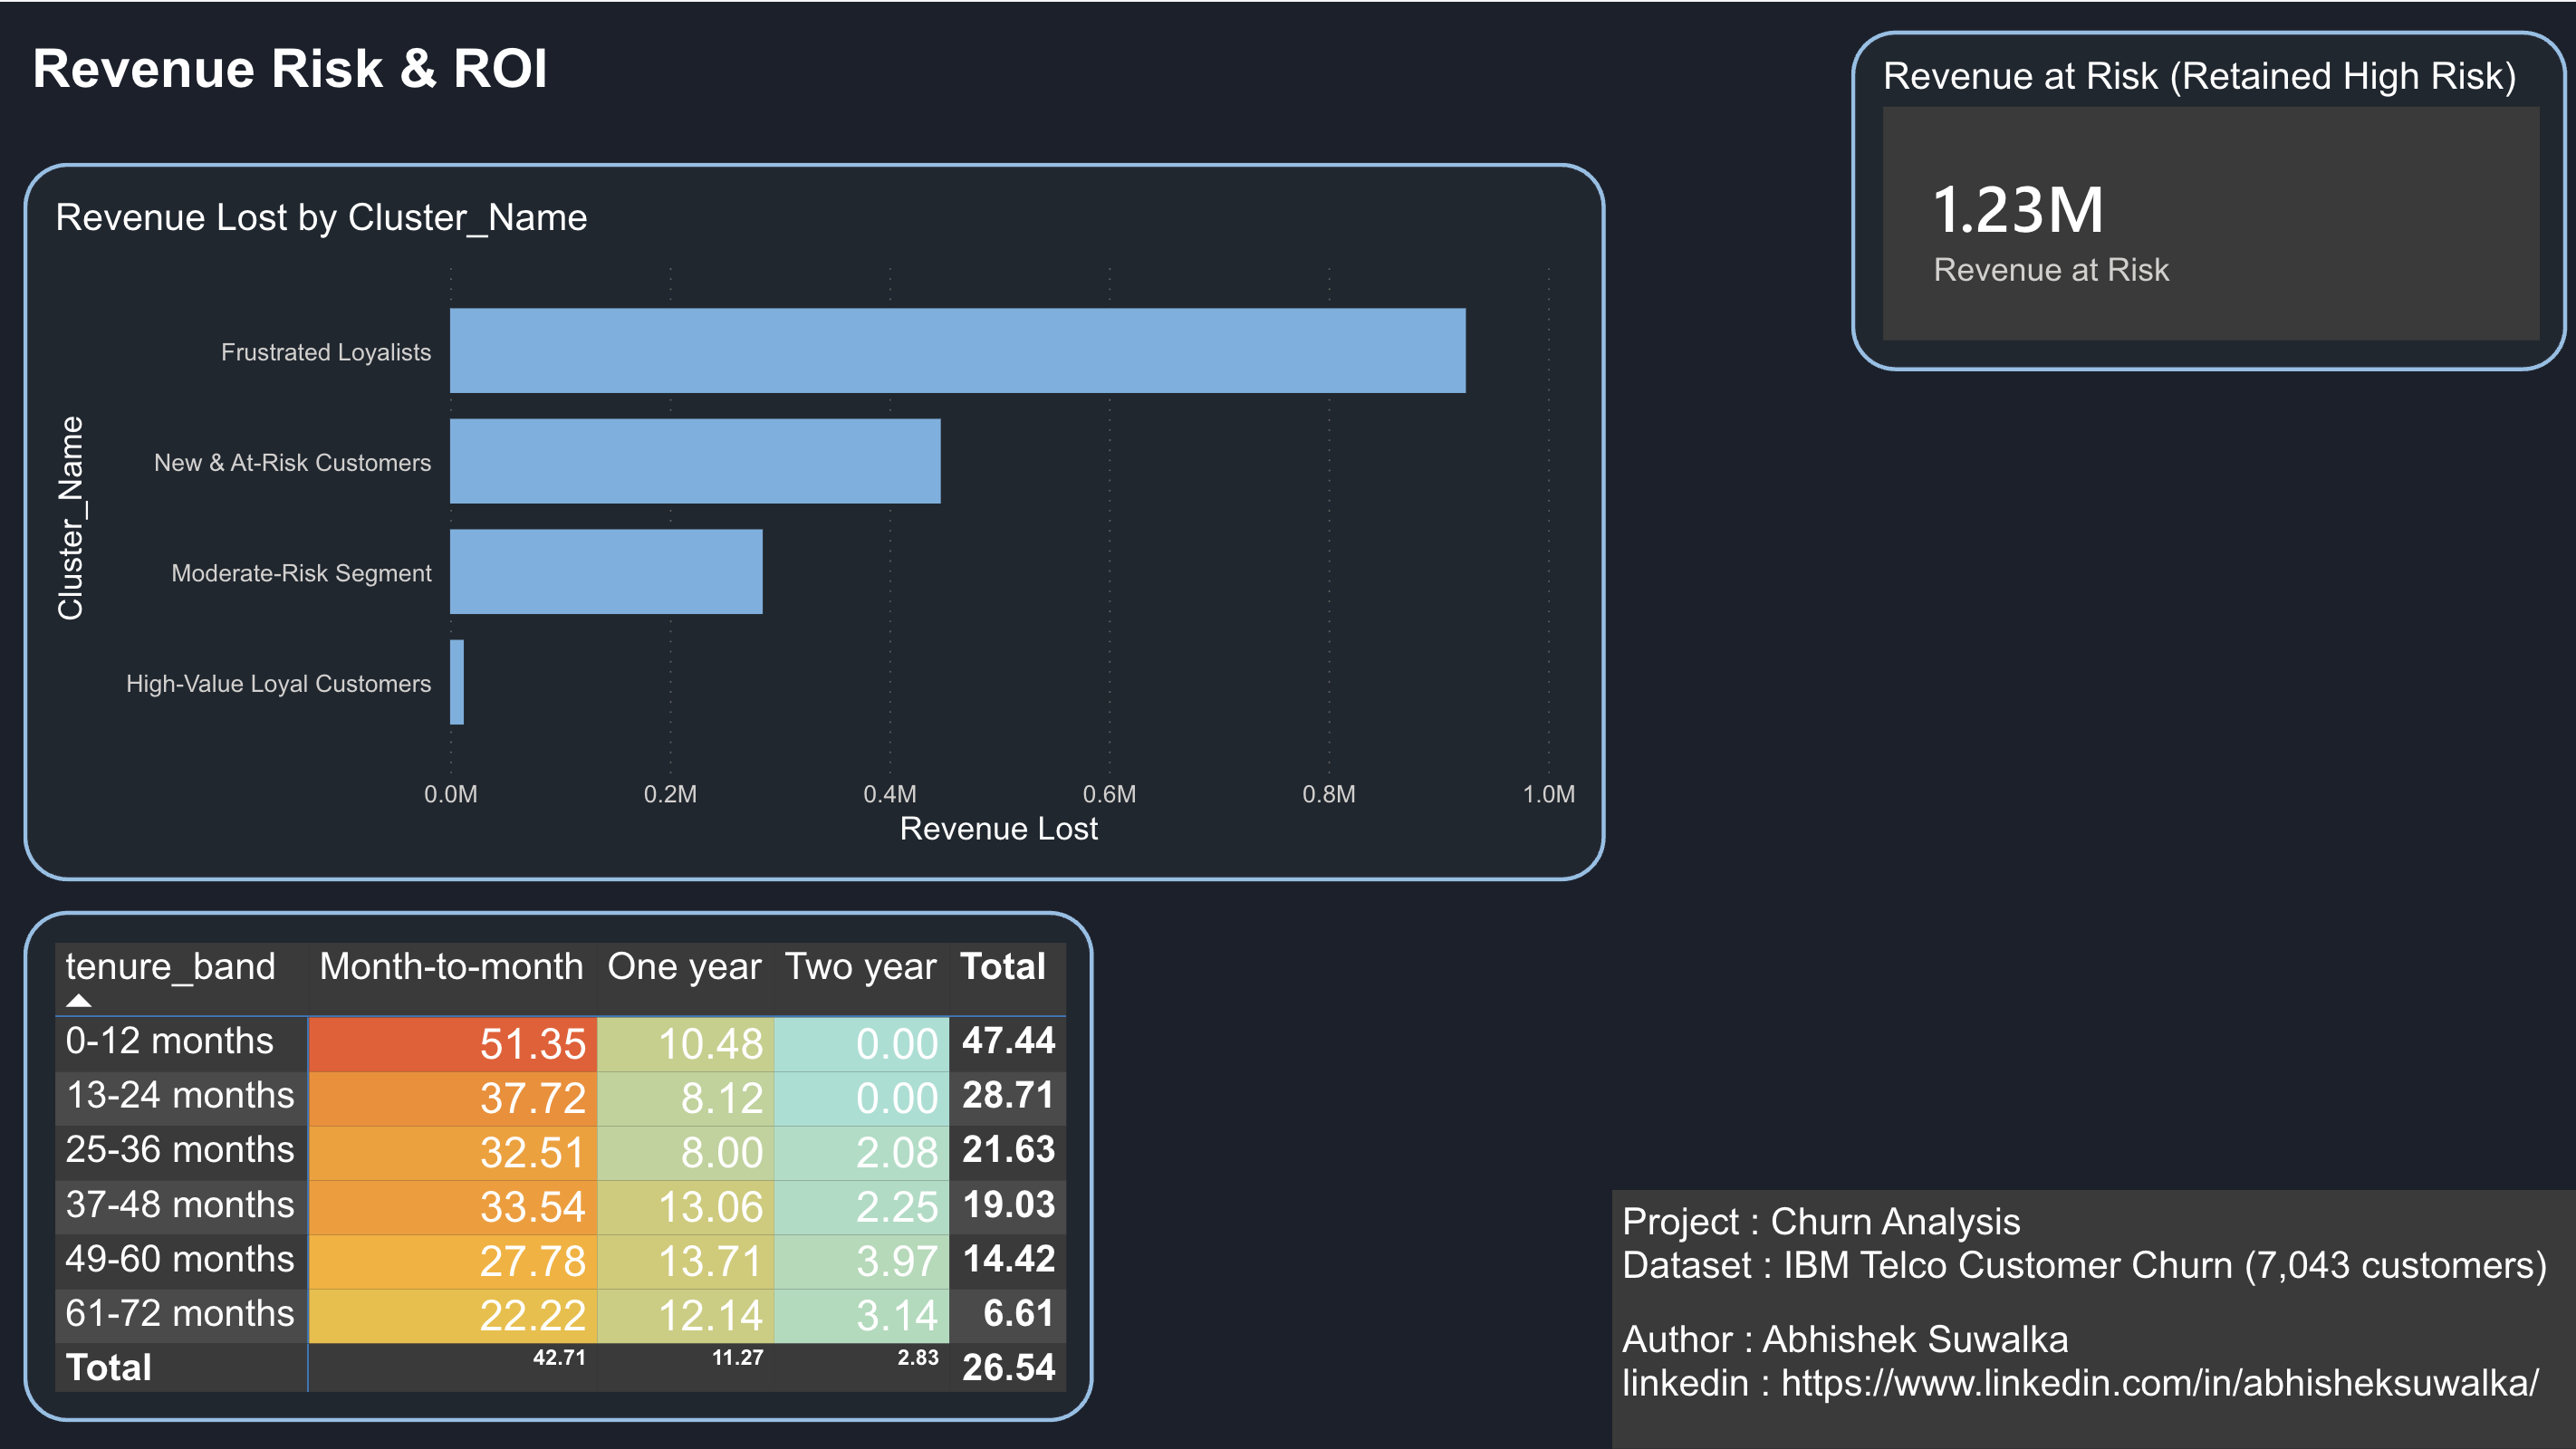

The dashboard page shown, as its layout file describes it:
{"tool":"powerbi","page":{"name":"Revenue Risk & ROI","canvas":[1280,720],"ordinal":3},"visuals":[{"type":"shape","box":[10.8,451.1,533.1,255.5],"z":1000},{"type":"shape","box":[918.1,13.1,357.1,170.8],"z":2000},{"type":"shape","box":[10.4,79.1,787.3,358.5],"z":3000},{"type":"clusteredBarChart","fields":{"Category":["telco_churn_final.Cluster_Name"],"Y":["telco_churn_final.Revenue Lost"]},"box":[22.2,96.1,765.1,328.5],"z":4000},{"type":"cardVisual","title":"Revenue at Risk (Retained High Risk)","fields":{"Data":["telco_churn_final.Revenue at Risk"]},"box":[929.9,26.1,336.3,147.3],"z":5000},{"type":"pivotTable","fields":{"Rows":["telco_churn_final.tenure_band"],"Columns":["telco_churn_final.Contract"],"Values":["telco_churn_final.Overall Churn Rate"]},"box":[22.5,462.8,521.4,255.5],"z":6000},{"type":"textbox","box":[10.4,13,280.2,48.2],"z":7000},{"type":"textbox","box":[800.6,590.2,479.4,128.3],"z":7001}]}

Visuals, with their boxes in screenshot pixels (x1, y1, x2, y2), scaled from the page's 1280x720 canvas onto the 2576x1449 screenshot:
shape: bbox(22, 907, 1094, 1422)
shape: bbox(1848, 26, 2566, 370)
shape: bbox(21, 159, 1605, 880)
clusteredBarChart - telco_churn_final.Cluster_Name x telco_churn_final.Revenue Lost: bbox(44, 194, 1584, 855)
"Revenue at Risk (Retained High Risk)" cardVisual: bbox(1871, 53, 2548, 349)
pivotTable - telco_churn_final.tenure_band x telco_churn_final.Contract: bbox(45, 931, 1094, 1445)
textbox: bbox(21, 26, 585, 123)
textbox: bbox(1611, 1188, 2575, 1446)
